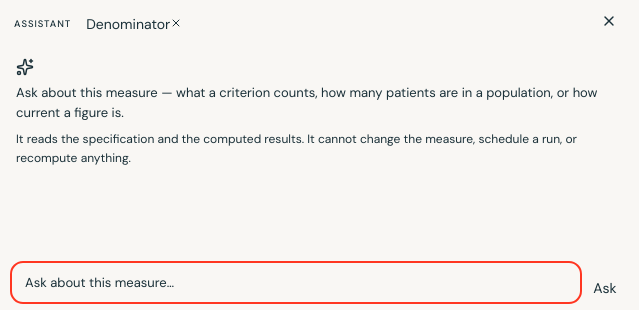
it: the answer is markdown (APP-ASSISTANT-MARKDOWN) › renders the model's structure as structure, not as punctuation
Type "What is in the denominator?" into the text box named "Ask a question" at (296, 282), box x1=14 y1=264 x2=578 y2=300
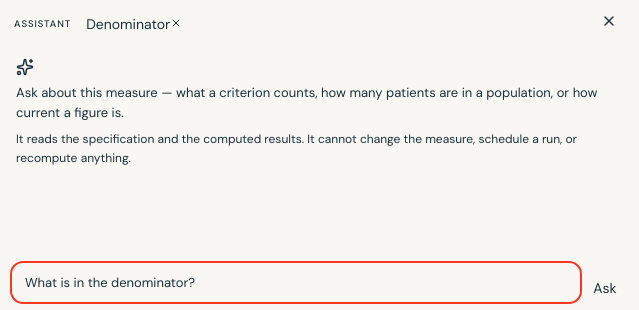
Click the button "Ask" at (605, 288), box x1=587 y1=277 x2=623 y2=300
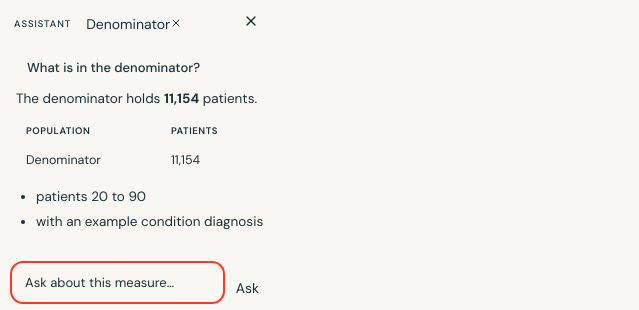
Expected: the column heading "Population" is shown, x1=16 y1=118 x2=161 y2=146
Expected: the list items read "patients 20 to 90", "with an example condition diagnosis", in this order, x1=36 y1=188 x2=146 y2=206; x1=36 y1=211 x2=263 y2=233
